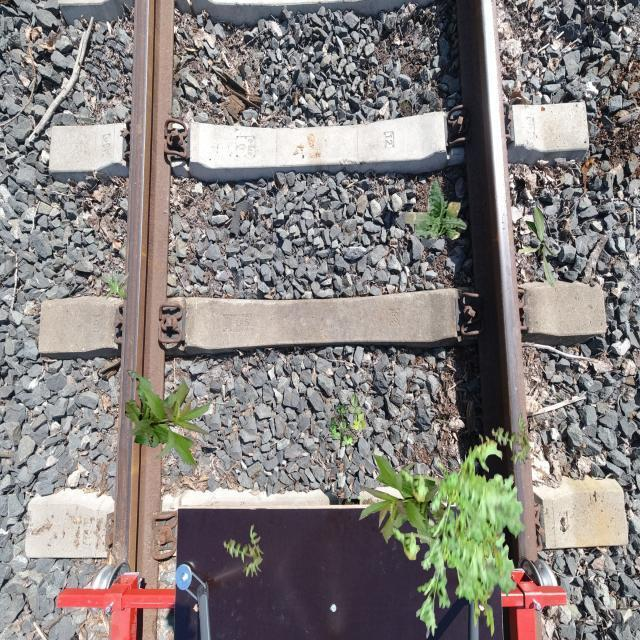Plant: (392, 492, 517, 639), (401, 434, 526, 581), (357, 454, 446, 552), (125, 370, 214, 468), (404, 178, 468, 240), (518, 205, 558, 288), (491, 412, 532, 466), (223, 524, 264, 578), (329, 395, 366, 450), (97, 266, 130, 300)
